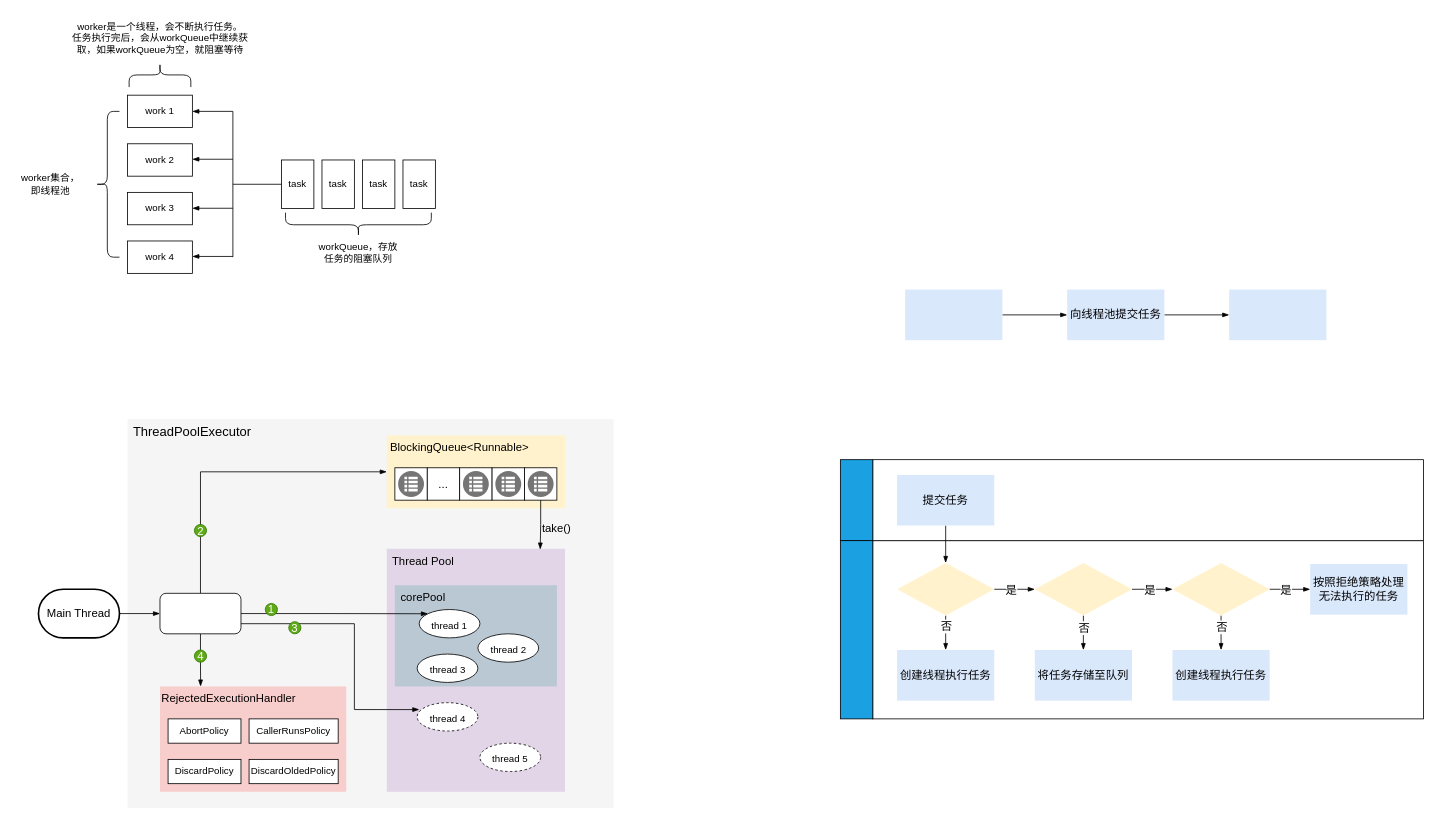
Image size: 1438x821. Some labels were removed from this diagram. Here are the shapes that lost their labels. From the top down, the centre of each, then its label:
At pixel 953 314: "创建线程池".
At pixel 1277 314: "关闭线程池".
At pixel 856 500: "使 用 者".
At pixel 945 589: "核心线程池 是否已满？".
At pixel 1083 589: "阻塞队列 是否已满？".
At pixel 1220 589: "线程池 是否已满？".
At pixel 200 613: "execute()".
At pixel 856 629: "线 程 池".
